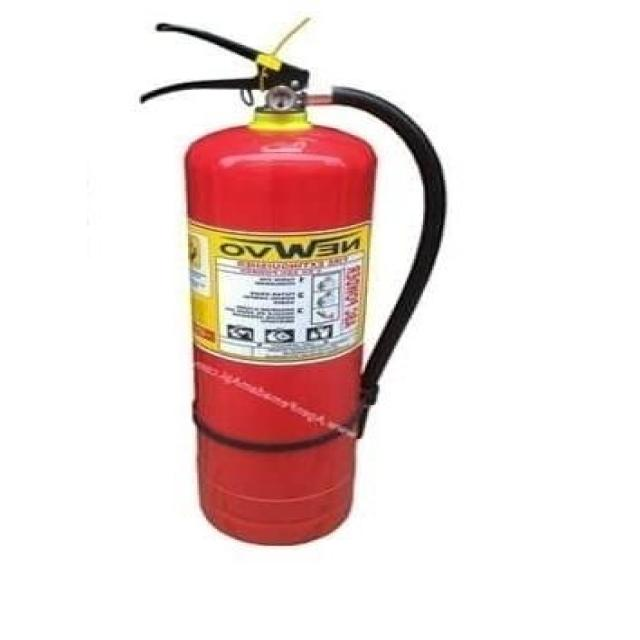fire_extinguisher: (130, 14, 454, 549)
